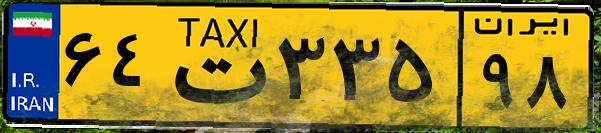3: (270, 28, 330, 110), (330, 28, 385, 110)
4: (110, 28, 158, 98)
5: (385, 28, 445, 110)
6: (57, 26, 110, 100)
8: (525, 38, 570, 115)
9: (475, 38, 525, 113)
ت: (158, 12, 270, 120)
